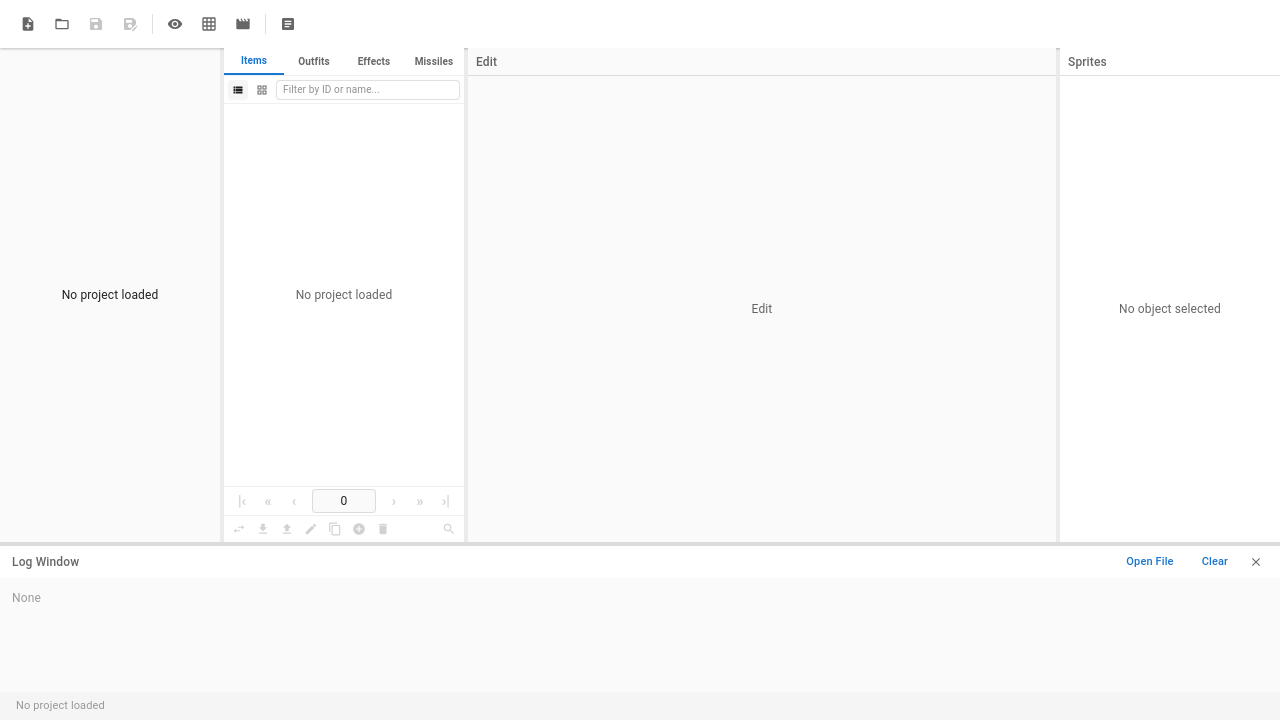
it: App layout › toggles log panel via toolbar log button
The width and height of the screenshot is (1280, 720).
Expected: the text "Log Window" is shown, [12,554,79,570]
Click the button titled "Log Window".
click(288, 24)  # box [272,8,304,40]
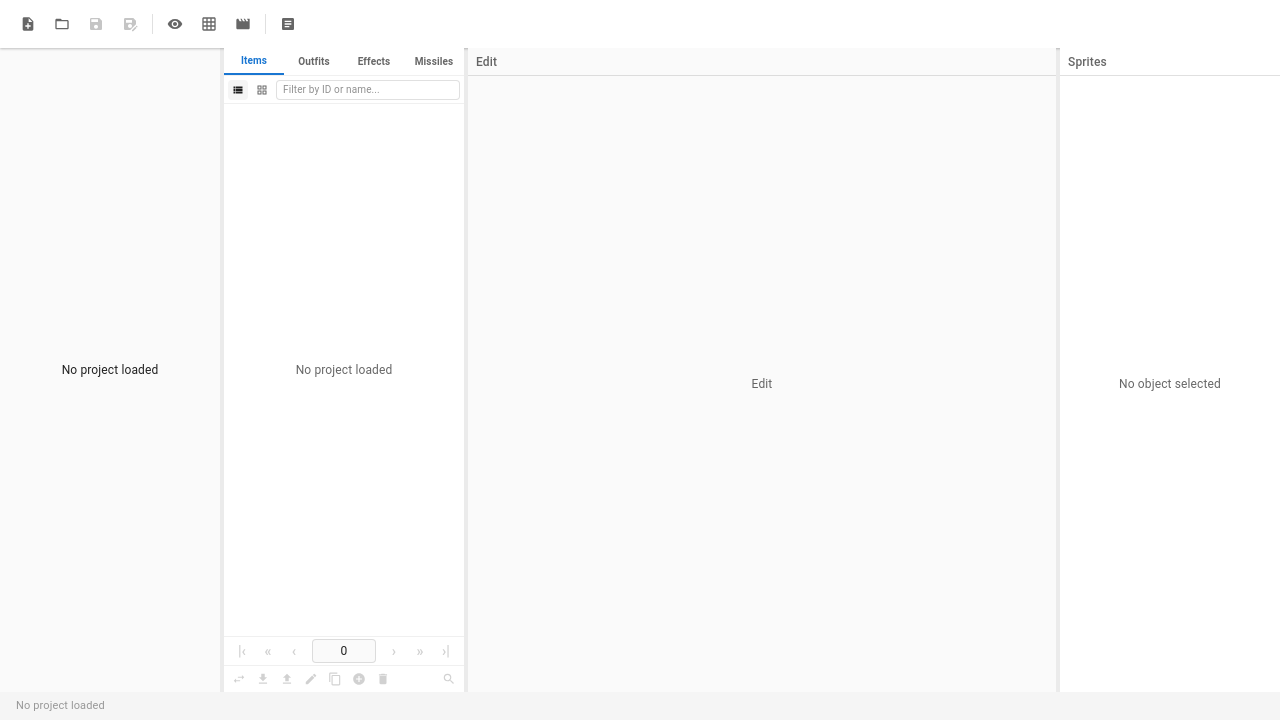
Result: the text "Log Window" is gone
